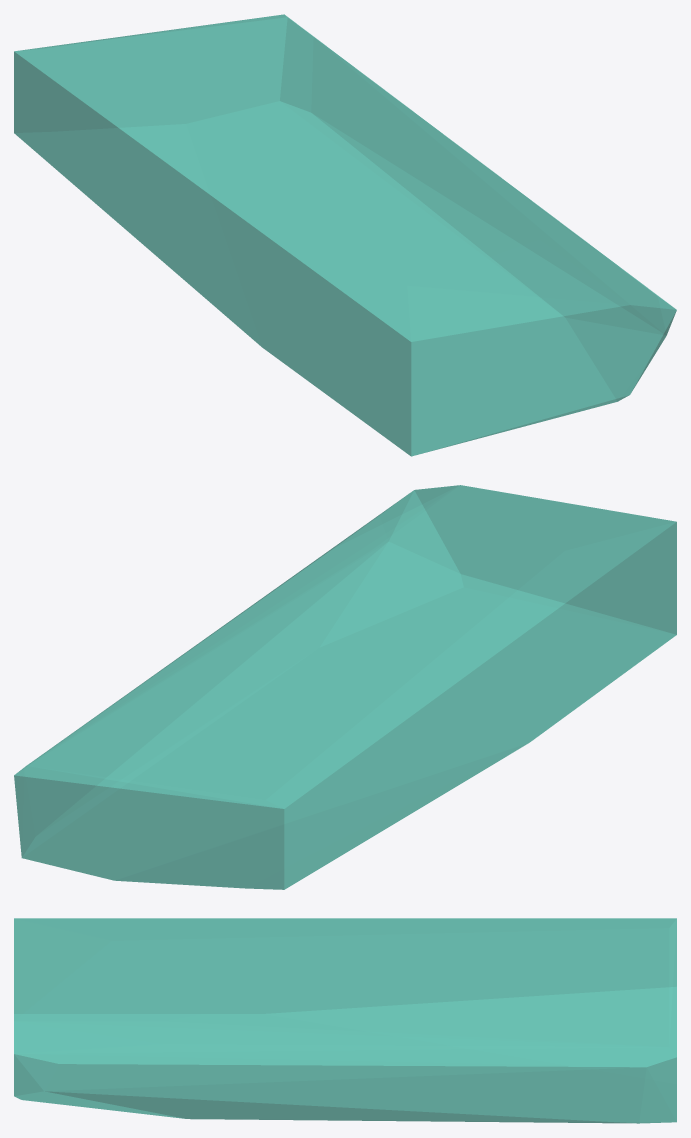
3 renders of one model, top to bottom at view 1: azimuth 30°, elevation 25°; view 2: azimuth 150°, elevation 25°; view 3: azimuth 270°, elevation 25°, orthographic. The views are drawn at different scales.
Parts seen in each view (by area): view 1: Shape_IndexedFaceSet.016_Shape_IndexedFaceSet.15998; view 2: Shape_IndexedFaceSet.016_Shape_IndexedFaceSet.15998; view 3: Shape_IndexedFaceSet.016_Shape_IndexedFaceSet.15998.
Part boxes in pixels (box(x1,y1,x2,y2)): Shape_IndexedFaceSet.016_Shape_IndexedFaceSet.15998: box(14, 14, 676, 456); Shape_IndexedFaceSet.016_Shape_IndexedFaceSet.15998: box(14, 485, 676, 889); Shape_IndexedFaceSet.016_Shape_IndexedFaceSet.15998: box(14, 918, 676, 1123).
Bounding box in the file's own units: 0.1244 × 0.0484 × 0.3041.
